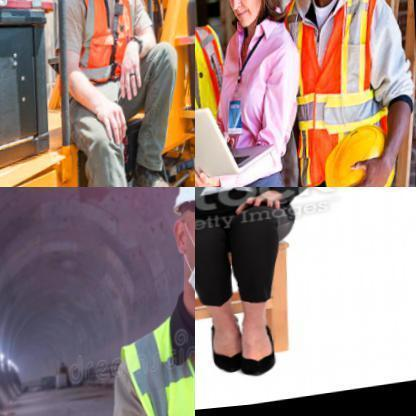vest: (282, 0, 393, 186), (118, 297, 194, 415), (195, 18, 234, 186), (71, 0, 138, 88)
